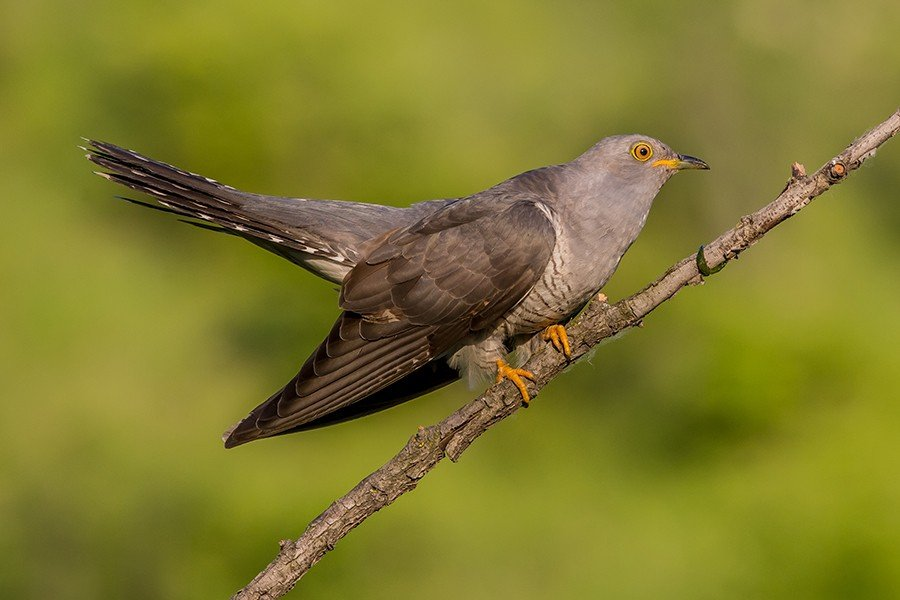кукушка: (65, 101, 726, 461)
